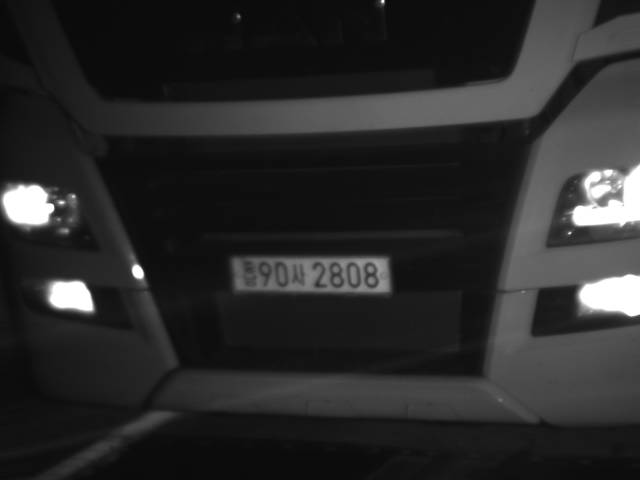car: (1, 1, 638, 429)
plate: (229, 255, 393, 293)
